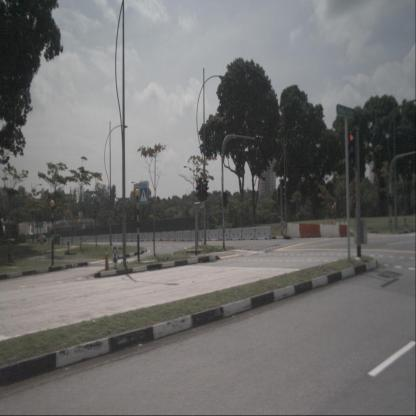movable_object-barrier: (319, 224, 340, 237), (255, 226, 271, 240), (287, 223, 300, 238), (241, 227, 255, 240), (299, 223, 311, 238), (309, 223, 321, 238), (218, 228, 230, 241), (229, 228, 242, 240), (208, 229, 219, 241), (199, 230, 209, 241), (190, 230, 200, 241), (182, 230, 191, 241), (339, 225, 347, 237), (153, 232, 161, 241), (175, 231, 182, 241), (160, 232, 168, 240), (167, 232, 174, 240), (148, 232, 154, 241), (132, 234, 138, 242), (118, 233, 123, 242), (143, 232, 148, 241), (113, 233, 118, 242), (95, 234, 100, 242), (138, 233, 143, 241), (102, 234, 107, 242), (127, 234, 132, 242), (110, 233, 114, 242), (81, 236, 86, 243), (99, 235, 104, 242), (106, 235, 111, 242), (92, 235, 96, 242), (86, 235, 90, 242), (73, 235, 77, 242), (77, 235, 81, 242), (89, 235, 93, 242), (58, 238, 63, 243), (69, 237, 73, 243), (63, 237, 66, 243), (66, 237, 69, 243)
movable_object-trafficcone: (104, 247, 110, 271)
vehicle-car: (38, 235, 46, 243)
